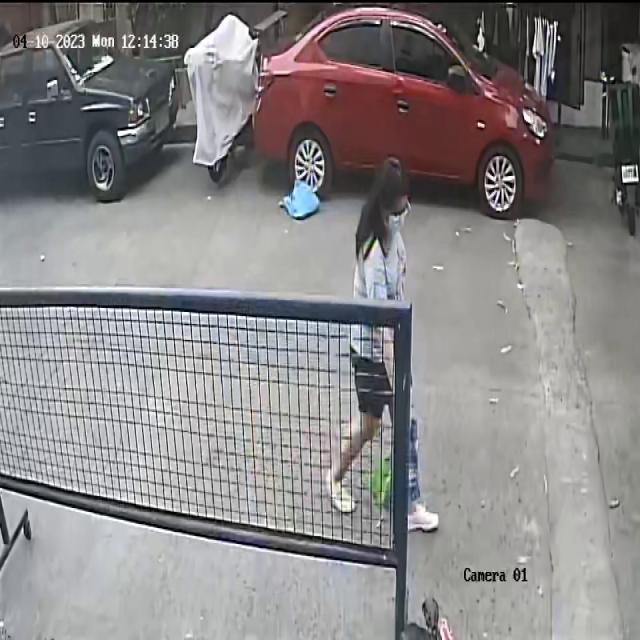garbage_dumping: (372, 376, 428, 512)
